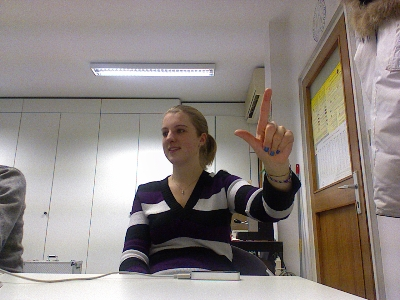枪: (231, 86, 294, 165)
